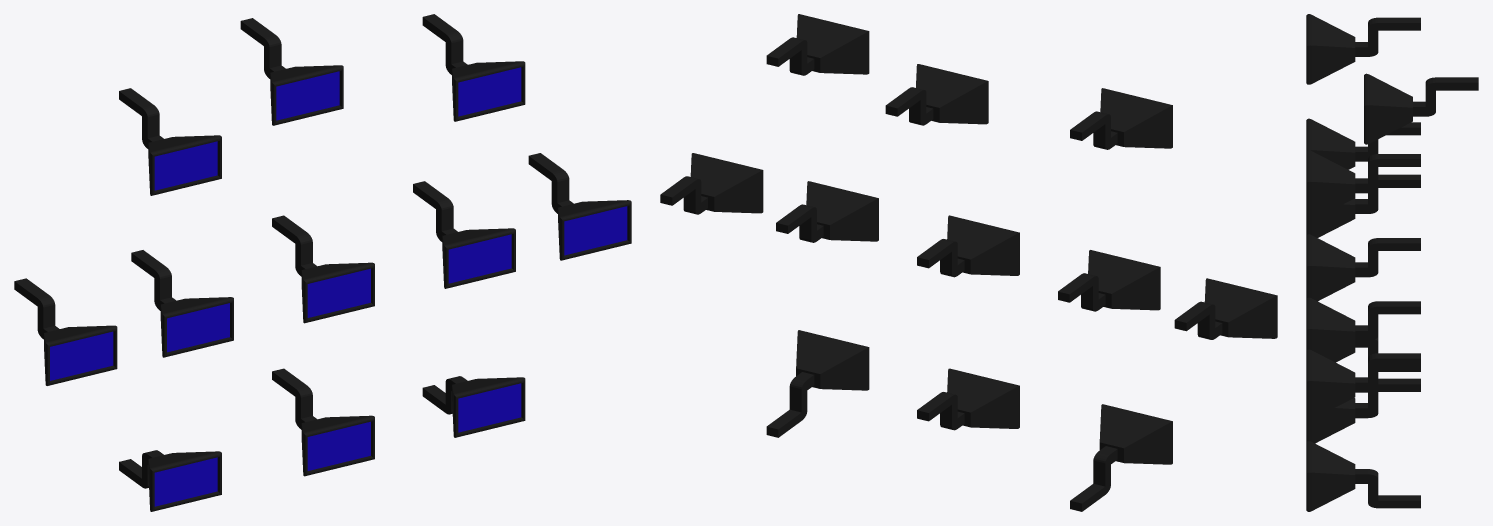
File: LIGHTS FOR MUSEUM.fbx
The picture shows the model from 3 angles, left to right: view 1: azimuth 30°, elevation 25°; view 2: azimuth 150°, elevation 25°; view 3: azimuth 270°, elevation 25°; orthographic projection. The views are drawn at different scales.
Parts seen in each view (by area): view 1: Cube.009 (×2), Cube.001 (×2), Cube.005 (×2), Cube.004 (×2), Cube.003 (×2), Cube.008 (×2), Cube (×2), Cube.006 (×2), Cube.002 (×2), Cube.010 (×2), Cube.011 (×2); view 2: Cube.010, Cube.011, Cube.001, Cube.009, Cube.004, Cube.005, Cube.002, Cube.003, Cube.008, Cube, Cube.006; view 3: Cube.001, Cube.008, Cube.010, Cube.005, Cube.009, Cube, Cube.003, Cube.006, Cube.004, Cube.002, Cube.011.
Part boxes in pixels (x1,y1,x2,y2): Cube.009 (×2): (422, 14, 525, 121); Cube.001 (×2): (528, 153, 631, 260); Cube.005 (×2): (240, 18, 343, 125); Cube.004 (×2): (14, 278, 117, 385); Cube.003 (×2): (413, 181, 515, 288); Cube.008 (×2): (119, 88, 221, 195); Cube (×2): (272, 215, 374, 323); Cube.006 (×2): (272, 368, 374, 476); Cube.002 (×2): (131, 250, 233, 357); Cube.010 (×2): (422, 376, 525, 437); Cube.011 (×2): (119, 450, 221, 511); Cube.010: (766, 330, 869, 437); Cube.011: (1070, 404, 1172, 511); Cube.001: (660, 153, 763, 214); Cube.009: (766, 14, 869, 75); Cube.004: (1174, 278, 1277, 339); Cube.005: (885, 64, 988, 125); Cube.002: (1058, 250, 1160, 311); Cube.003: (776, 181, 878, 242); Cube.008: (1070, 88, 1172, 149); Cube: (917, 215, 1019, 277); Cube.006: (917, 368, 1019, 430); Cube.001: (1306, 349, 1420, 420); Cube.008: (1306, 14, 1420, 84); Cube.010: (1306, 441, 1420, 511); Cube.005: (1364, 73, 1478, 144); Cube.009: (1306, 150, 1420, 220); Cube: (1306, 234, 1420, 301); Cube.003: (1306, 297, 1420, 358); Cube.006: (1306, 378, 1420, 443); Cube.004: (1306, 118, 1420, 169); Cube.002: (1306, 174, 1420, 237); Cube.011: (1329, 337, 1420, 371).
Size of the model in its own units: 6076 by 3864 by 1687.
